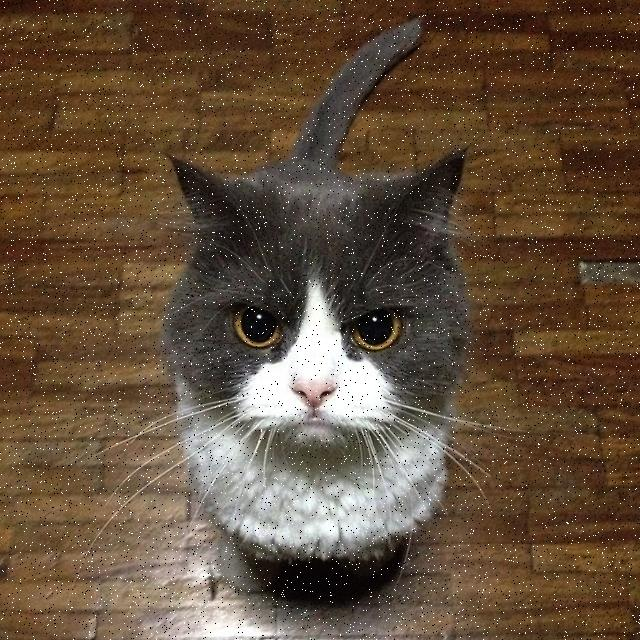Angry: (182, 240, 439, 464)
